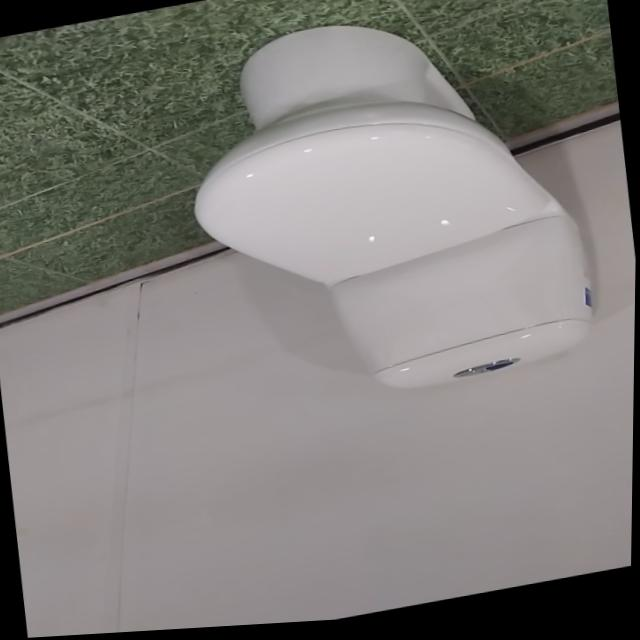toilet: (170, 0, 605, 430)
